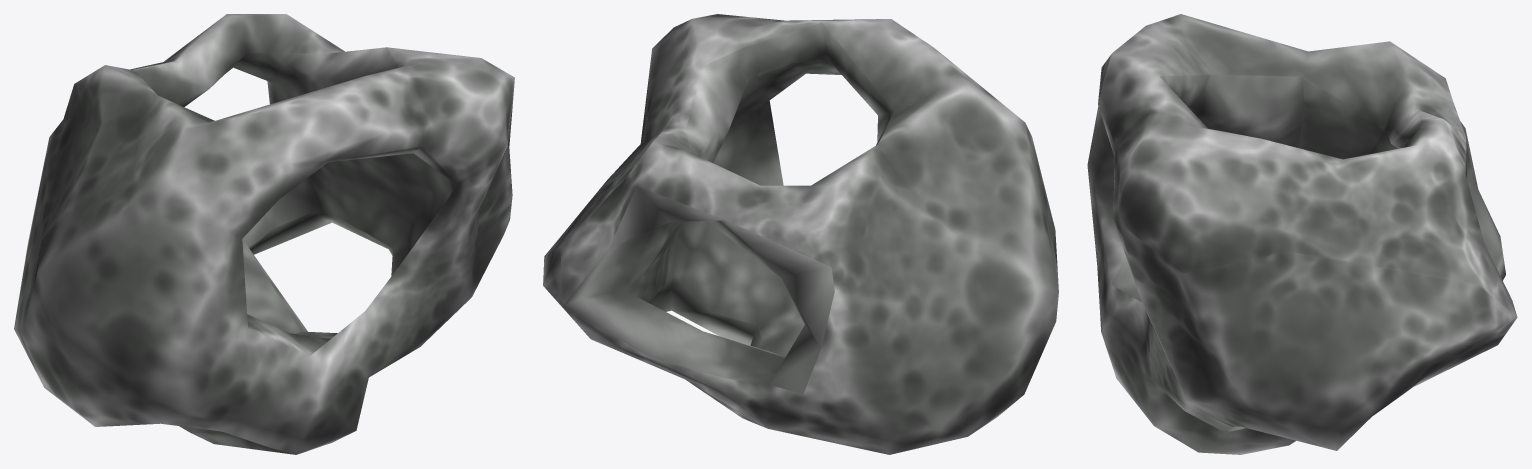
The model's file is BigMeteo2.fbx.
3 renders of one model, left to right at view 1: azimuth 30°, elevation 25°; view 2: azimuth 150°, elevation 25°; view 3: azimuth 270°, elevation 25°, orthographic. The views are drawn at different scales.
Visible parts, largest first — view 1: Meteorite_08; view 2: Meteorite_08; view 3: Meteorite_08.
Part boxes in pixels (x1,y1,x2,y2): Meteorite_08: [14, 14, 514, 454]; Meteorite_08: [543, 14, 1058, 454]; Meteorite_08: [1087, 14, 1517, 454].
Bounding box in the file's own units: 924 × 736 × 736.
